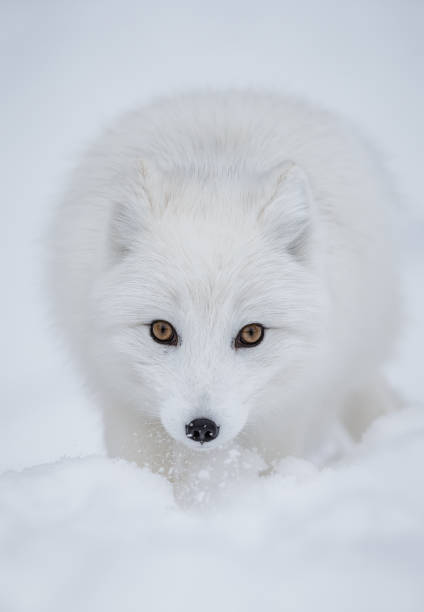arcticfox: (105, 205, 304, 482)
